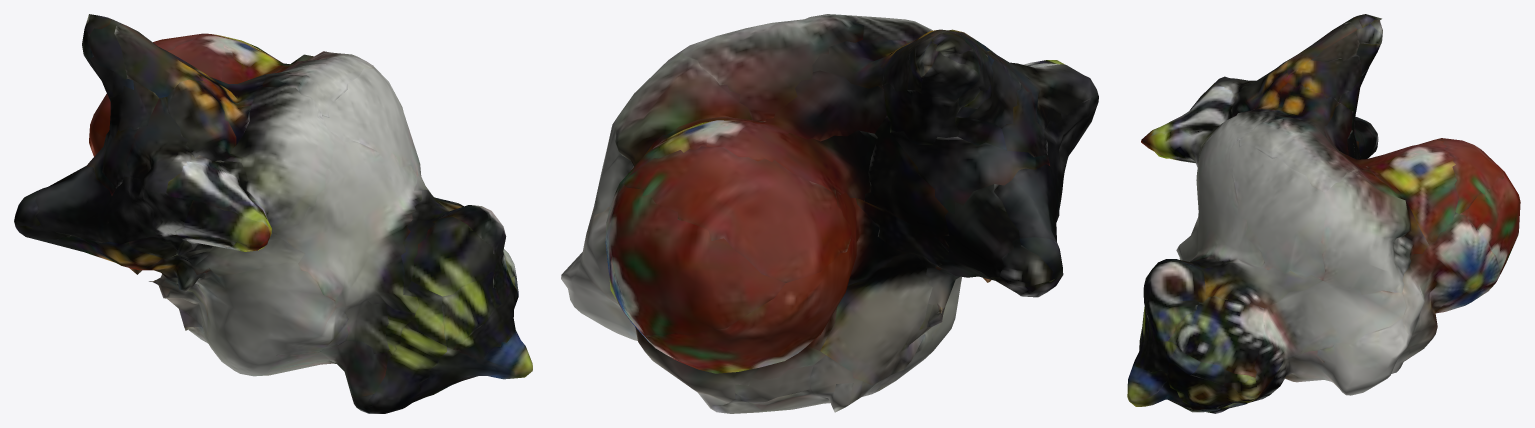
The model's file is hall.glb.
The picture shows the model from 3 angles, left to right: view 1: azimuth 30°, elevation 25°; view 2: azimuth 150°, elevation 25°; view 3: azimuth 270°, elevation 25°; orthographic projection. The views are drawn at different scales.
Size of the model in its own units: 0.5684 by 0.4829 by 0.5781.
Materials: 1 (1 with a texture image).
